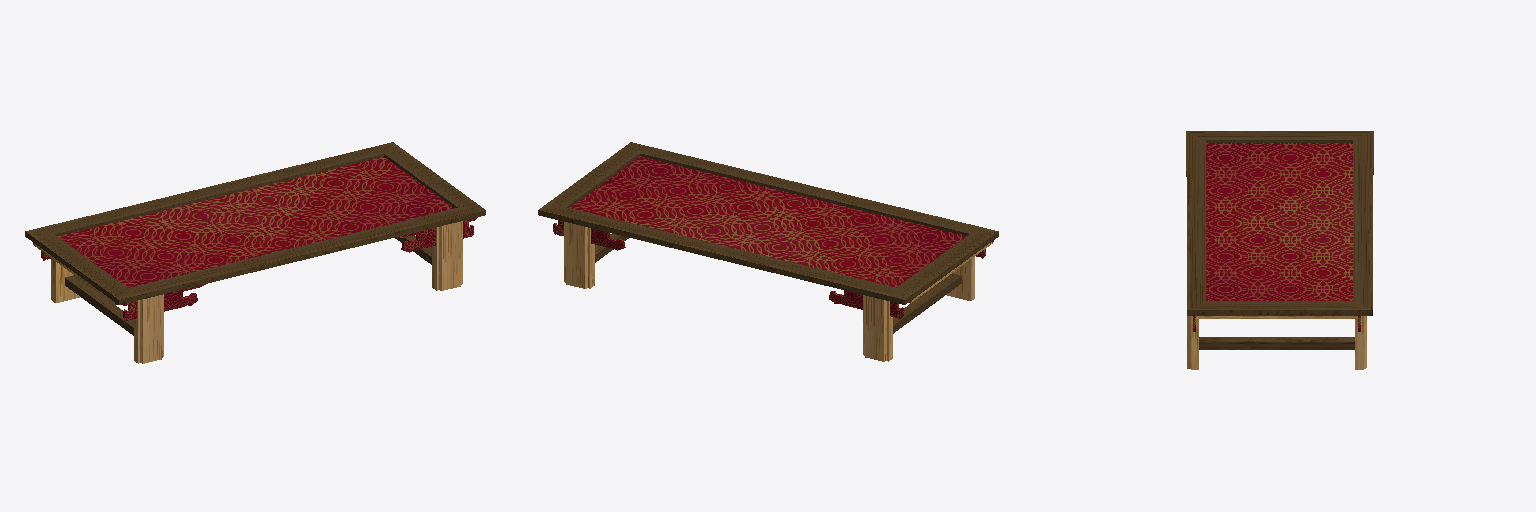
3 renders of one model, left to right at view 1: azimuth 30°, elevation 25°; view 2: azimuth 150°, elevation 25°; view 3: azimuth 270°, elevation 25°, orthographic.
Visible parts, largest first — view 1: Table; view 2: Table; view 3: Table.
Boxes of the visible parts, box(x1,y1,x2,y2) form: Table: box(25, 142, 485, 363); Table: box(538, 142, 998, 361); Table: box(1186, 131, 1373, 369).
Bounding box in the file's own units: 3.08 × 0.5641 × 1.36.
3 materials, 3 textured.